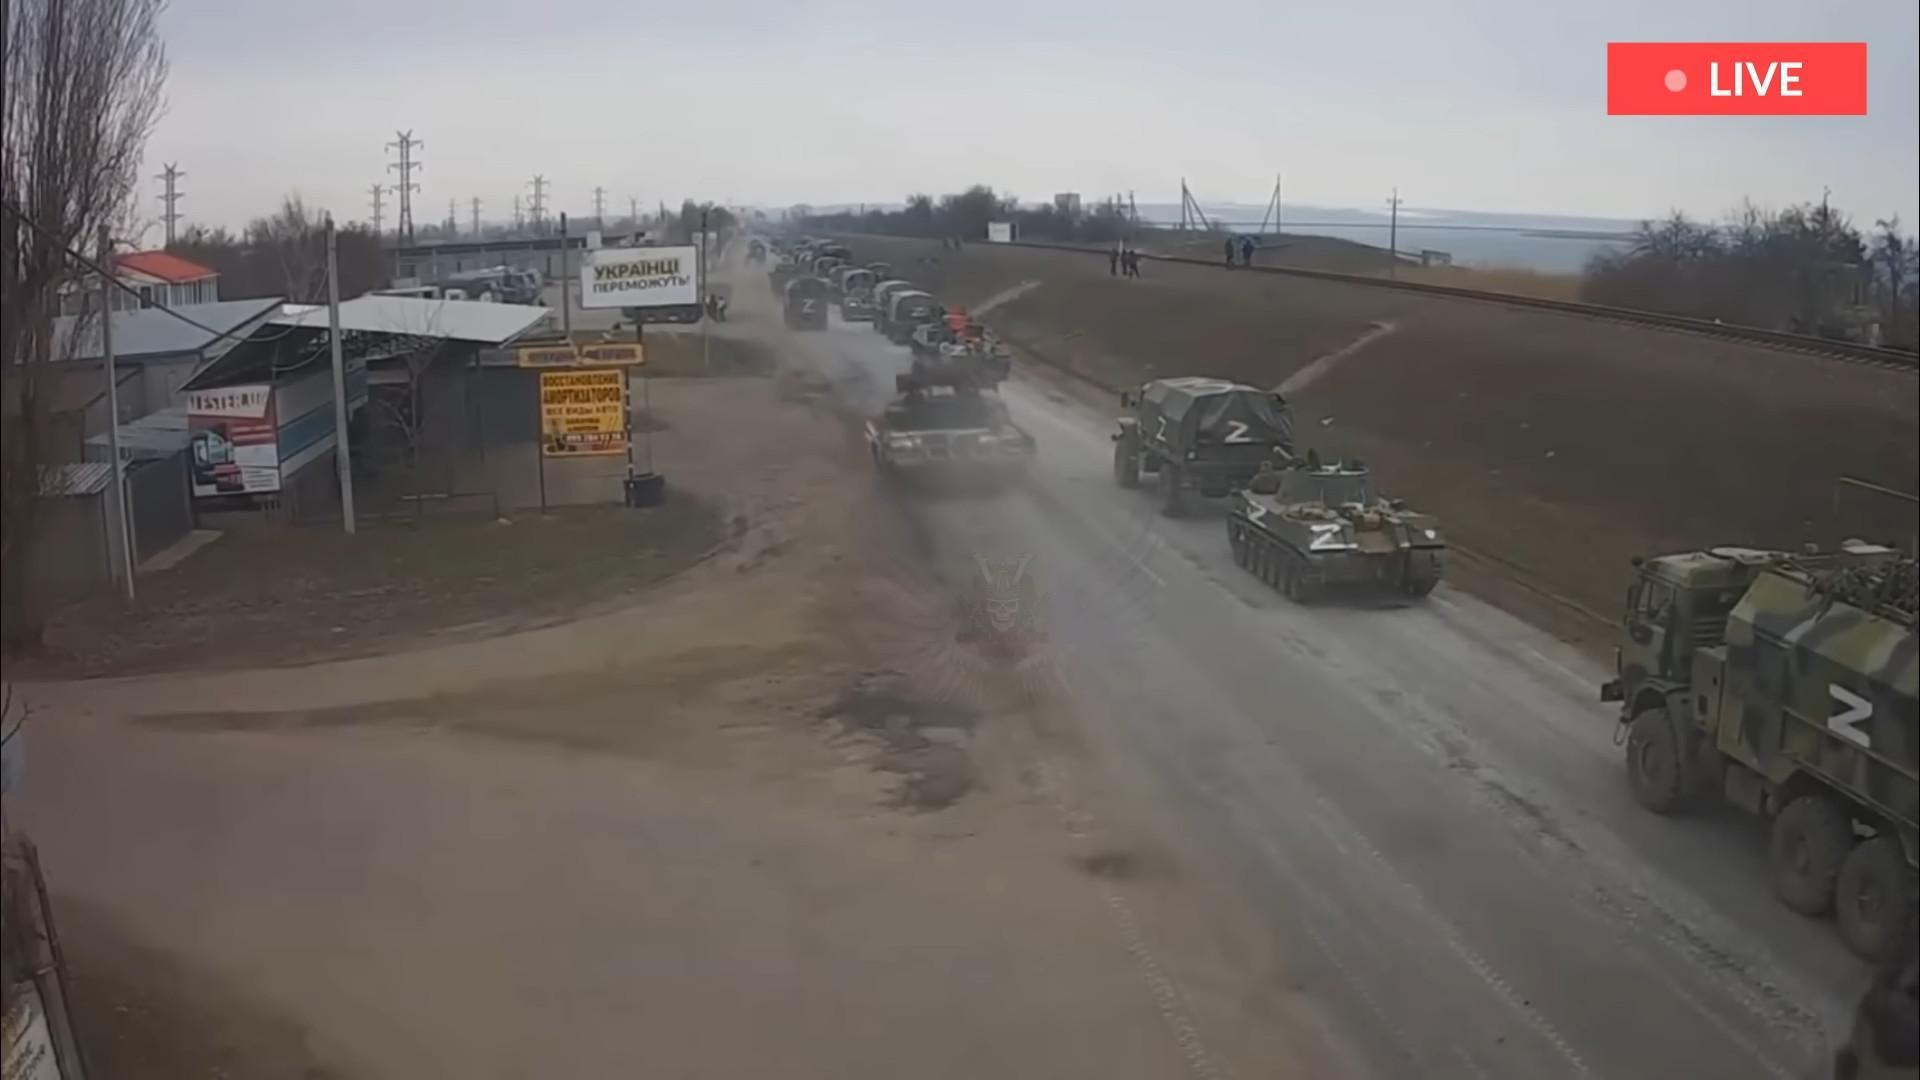tank: (1228, 447, 1447, 599)
